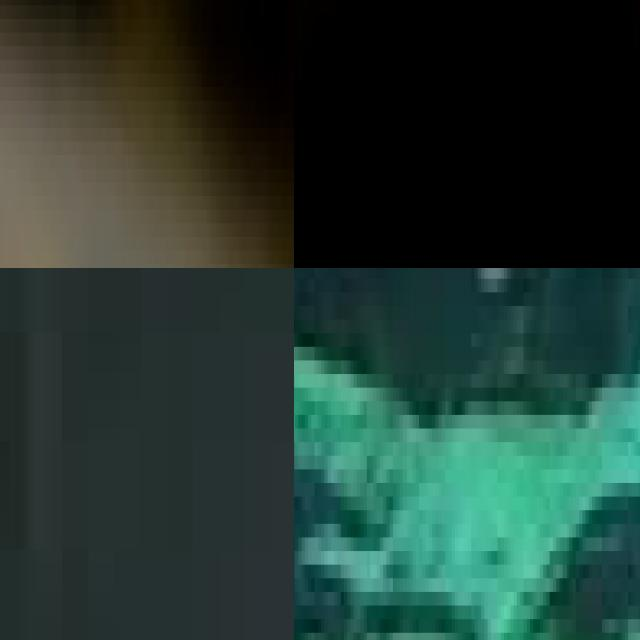fish: (333, 0, 640, 268), (0, 0, 294, 268)
